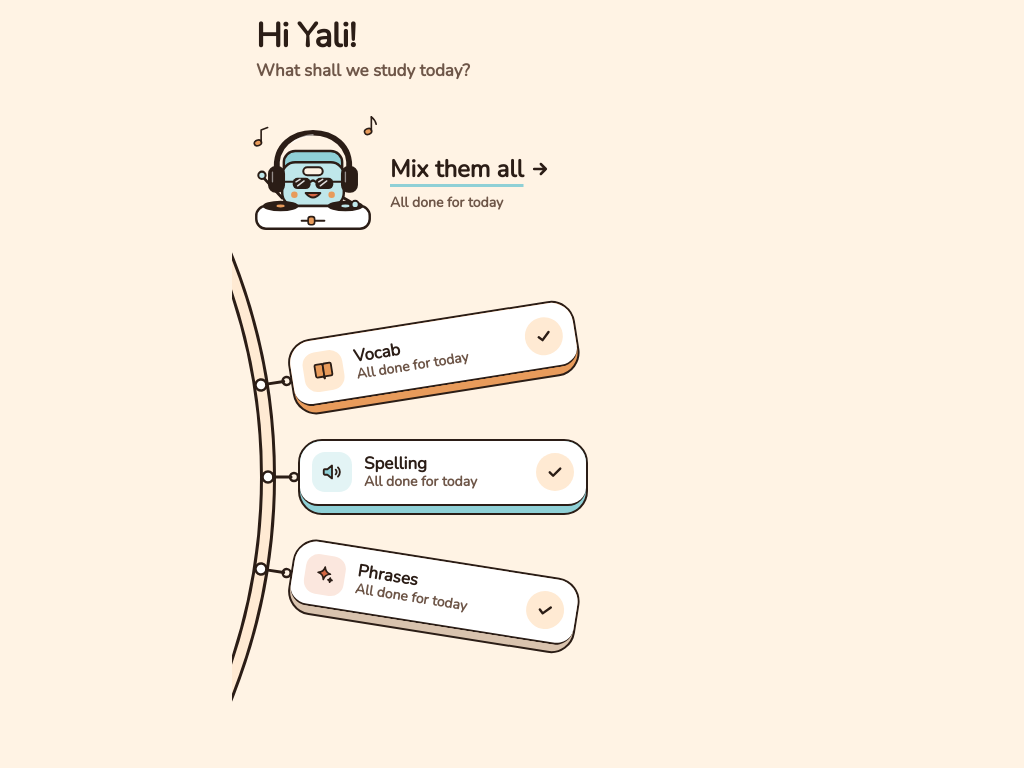
Scenario: TodayScreen (canvas N1) › a finished deck opens "All done for today ✓" with Add (canvas N3)
Expected: the text "All done for today" is shown 4 times, [388,193,503,212]; [355,347,470,384]; [364,472,477,491]; [354,579,468,616]
Click the button with aria-label "Phrases, all done for today".
click(434, 596)  # box [285,536,583,656]
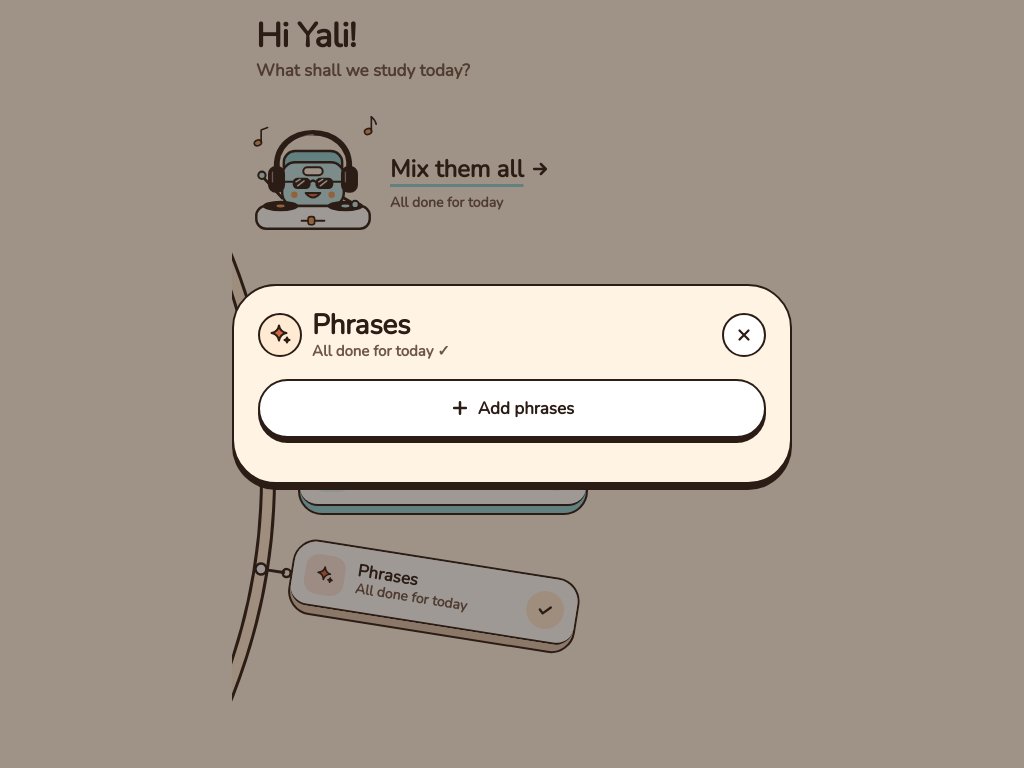
Now the text "All done for today ✓" is shown, box [312,341,450,361]
Click the button "Add phrases".
click(512, 408)  # box [258,379,766,438]
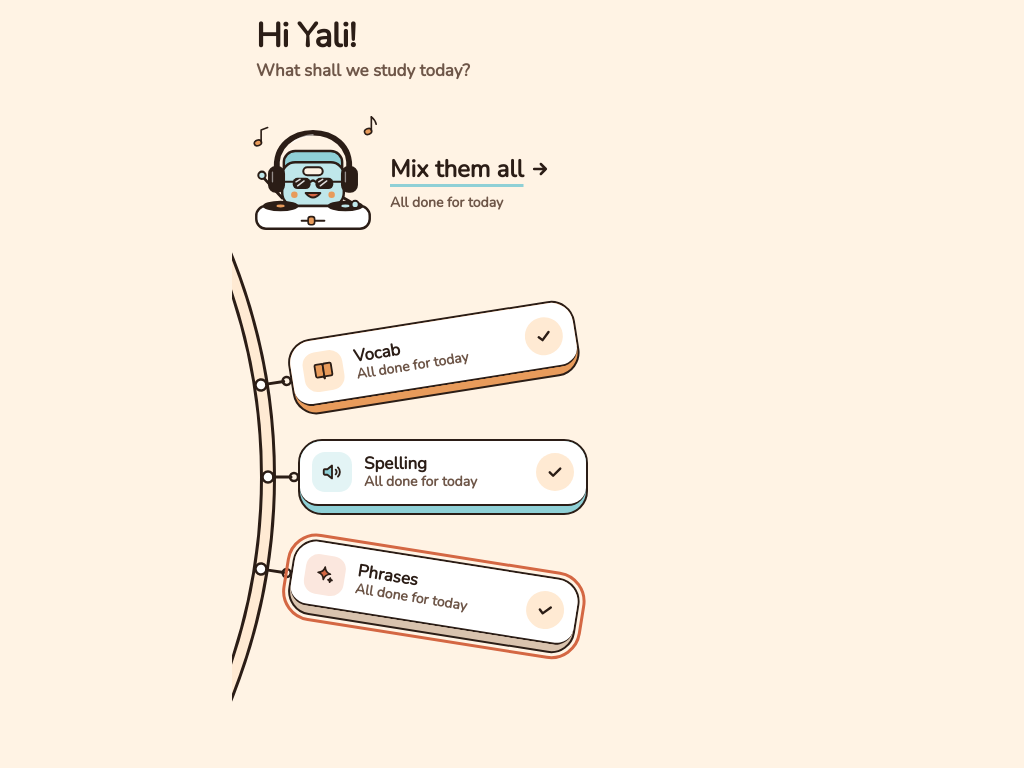
Now the dialog is gone
